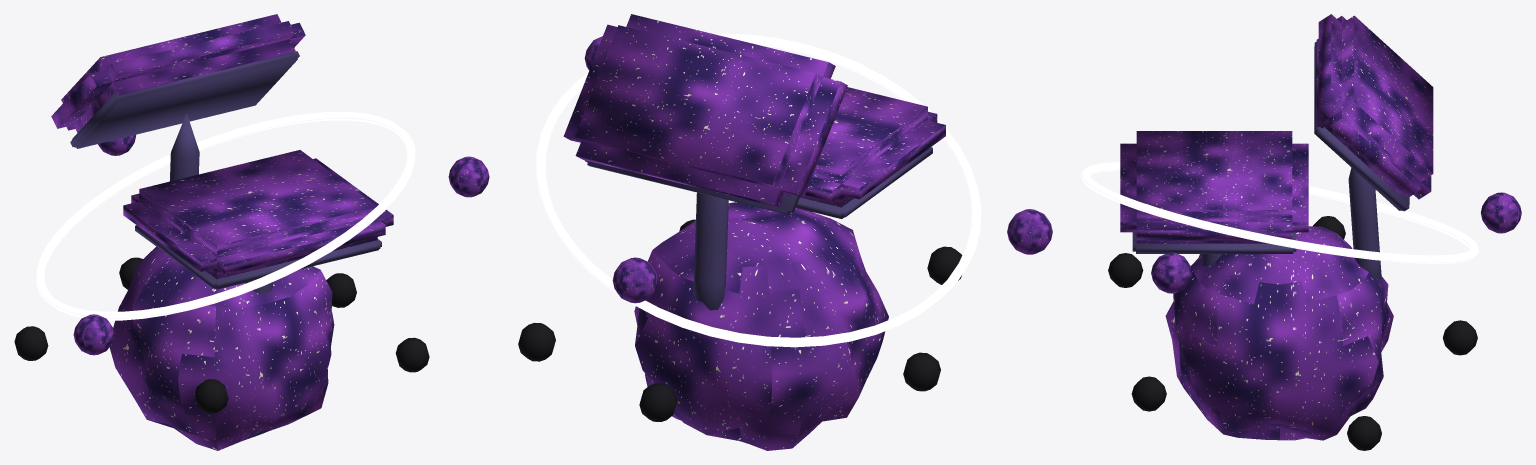
Rendered from GalaxyBench.fbx.
The picture shows the model from 3 angles, left to right: view 1: azimuth 30°, elevation 25°; view 2: azimuth 150°, elevation 25°; view 3: azimuth 270°, elevation 25°; orthographic projection. The views are drawn at different scales.
Visible parts, largest first — view 1: GalaxyBench, GalaxyBench_Glow; view 2: GalaxyBench, GalaxyBench_Glow; view 3: GalaxyBench, GalaxyBench_Glow.
Boxes of the visible parts, box(x1,y1,x2,y2) form: GalaxyBench: box(14, 14, 489, 450); GalaxyBench_Glow: box(36, 112, 415, 320); GalaxyBench: box(518, 14, 1052, 450); GalaxyBench_Glow: box(536, 33, 981, 347); GalaxyBench: box(1108, 14, 1521, 450); GalaxyBench_Glow: box(1081, 162, 1478, 263).
Size of the model in its own units: 423 by 363 by 390.
Materials: 2 (1 with a texture image).
